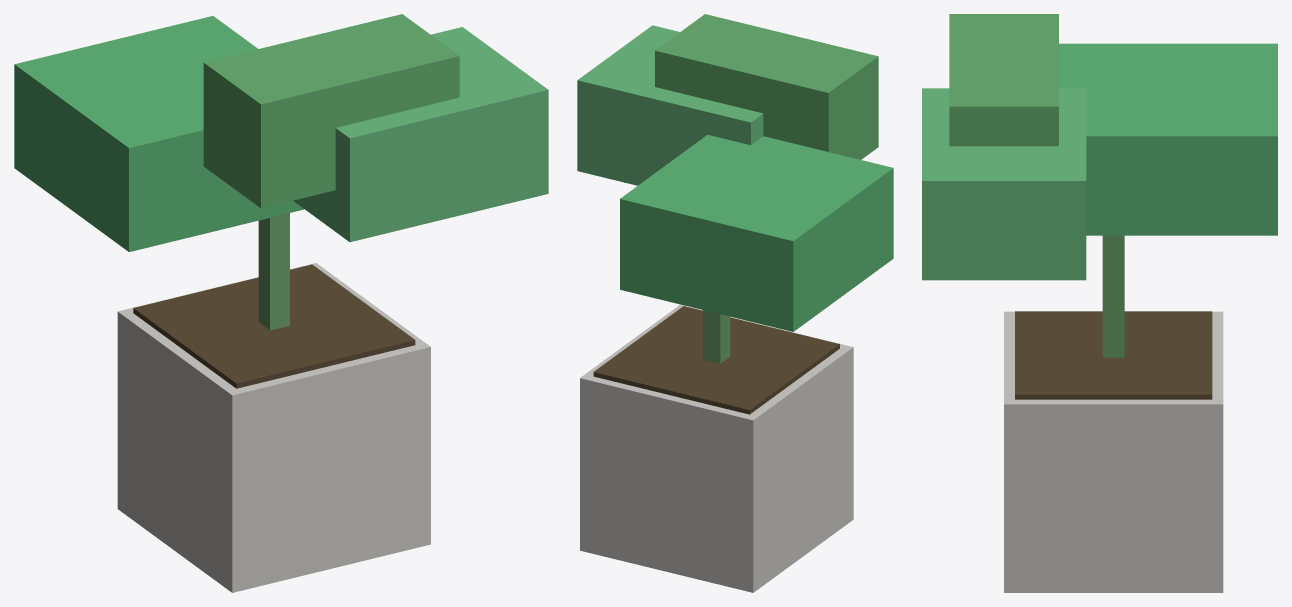
File: plant_potted.glb
3 views of the same model, side by side, from view 1: azimuth 30°, elevation 25°; view 2: azimuth 150°, elevation 25°; view 3: azimuth 270°, elevation 25° (orthographic). The views are drawn at different scales.
Bounding box in the file's own units: 0.7 × 0.98 × 0.65.
